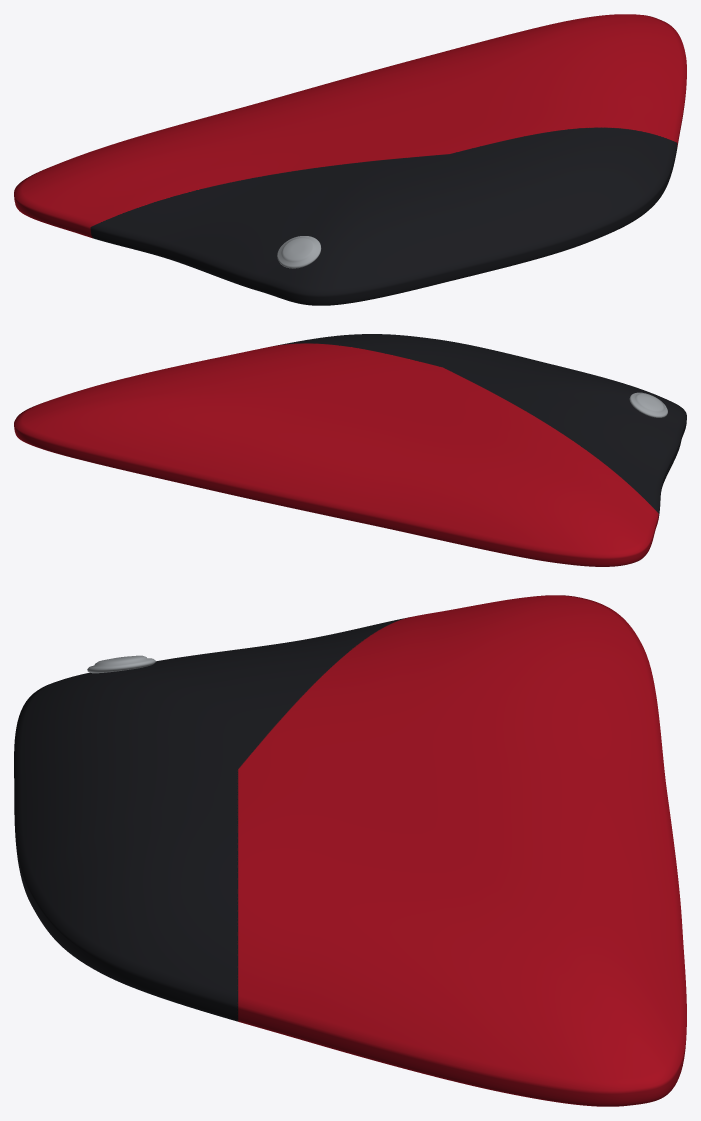
Rendered from candidate.glb.
The picture shows the model from 3 angles, top to bottom: view 1: azimuth 30°, elevation 25°; view 2: azimuth 150°, elevation 25°; view 3: azimuth 270°, elevation 25°; orthographic projection. The views are drawn at different scales.
Parts seen in each view (by area): view 1: LEFT_COVER_OUTER_SKIN, LEFT_COVER_VISIBLE_LOWER_FASTENER; view 2: LEFT_COVER_OUTER_SKIN, LEFT_COVER_VISIBLE_LOWER_FASTENER; view 3: LEFT_COVER_OUTER_SKIN, LEFT_COVER_VISIBLE_LOWER_FASTENER.
Part boxes in pixels (left/top/right/bottom): LEFT_COVER_OUTER_SKIN: left=14, top=14, right=686, bottom=305; LEFT_COVER_VISIBLE_LOWER_FASTENER: left=277, top=236, right=321, bottom=268; LEFT_COVER_OUTER_SKIN: left=14, top=334, right=686, bottom=566; LEFT_COVER_VISIBLE_LOWER_FASTENER: left=629, top=392, right=667, bottom=417; LEFT_COVER_OUTER_SKIN: left=14, top=595, right=686, bottom=1106; LEFT_COVER_VISIBLE_LOWER_FASTENER: left=87, top=655, right=155, bottom=673.
Bounding box in the file's own units: 0.3536 × 0.0286 × 0.2029.
2 materials, 1 textured.
